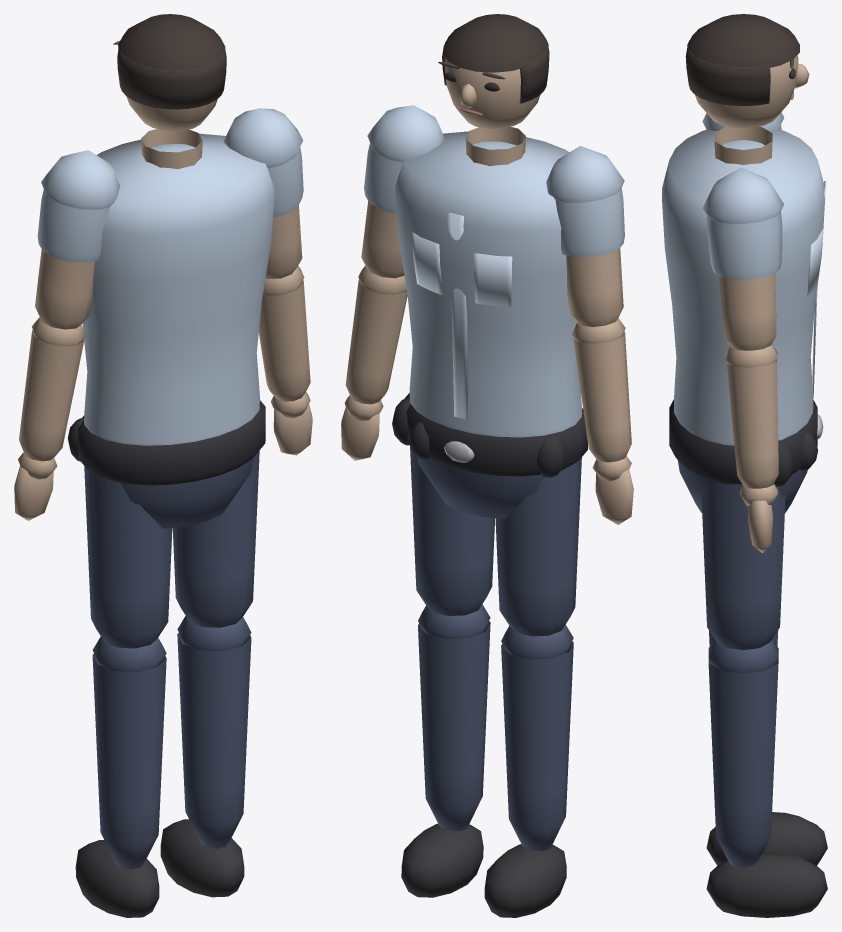
The model's file is moretti.glb.
The picture shows the model from 3 angles, left to right: view 1: azimuth 30°, elevation 25°; view 2: azimuth 150°, elevation 25°; view 3: azimuth 270°, elevation 25°; orthographic projection.
Parts seen in each view (by area): view 1: torso, shin_r, shin_l, thigh_l, thigh_r, belt, forearm_l, forearm_r, hair_crown, boot_r, boot_l, seat (+16 smaller); view 2: torso, shin_r, shin_l, thigh_l, thigh_r, forearm_l, belt, forearm_r, boot_r, boot_l, hair_crown, seat (+21 smaller); view 3: torso, shin_r, thigh_r, boot_r, forearm_r, hair_crown, sleeve_r, upperarm_r, belt, deltoid_r, hair_sides, boot_l (+11 smaller).
Boxes of the visible parts, left/top/right/bottom form: torso: left=82, top=133, right=274, bottom=445; shin_r: left=177, top=633, right=251, bottom=848; shin_l: left=92, top=653, right=166, bottom=869; thigh_l: left=84, top=466, right=172, bottom=648; thigh_r: left=172, top=451, right=259, bottom=627; belt: left=78, top=400, right=265, bottom=485; forearm_l: left=19, top=330, right=84, bottom=461; forearm_r: left=258, top=280, right=310, bottom=401; hair_crown: left=118, top=14, right=225, bottom=73; boot_r: left=160, top=819, right=244, bottom=897; boot_l: left=75, top=840, right=159, bottom=917; seat: left=121, top=414, right=256, bottom=528; torso: left=395, top=131, right=582, bottom=437; shin_r: left=418, top=621, right=490, bottom=830; shin_l: left=501, top=641, right=573, bottom=851; thigh_l: left=495, top=457, right=581, bottom=636; thigh_r: left=410, top=445, right=494, bottom=615; forearm_l: left=573, top=331, right=631, bottom=462; belt: left=404, top=393, right=587, bottom=476; forearm_r: left=345, top=279, right=407, bottom=404; boot_r: left=401, top=823, right=483, bottom=897; boot_l: left=484, top=844, right=566, bottom=917; hair_crown: left=443, top=14, right=548, bottom=72; seat: left=417, top=436, right=543, bottom=518; torso: left=662, top=129, right=824, bottom=445; shin_r: left=708, top=658, right=778, bottom=867; thigh_r: left=701, top=481, right=785, bottom=650; boot_r: left=706, top=852, right=827, bottom=917; forearm_r: left=727, top=359, right=778, bottom=488; hair_crown: left=687, top=14, right=799, bottom=70; sleeve_r: left=706, top=211, right=782, bottom=279; upperarm_r: left=718, top=273, right=776, bottom=350; belt: left=669, top=399, right=817, bottom=484; deltoid_r: left=702, top=167, right=784, bottom=223; hair_sides: left=685, top=40, right=770, bottom=105; boot_l: left=706, top=812, right=827, bottom=865.
Size of the model in its own units: 0.6461 by 1.83 by 0.3155.
